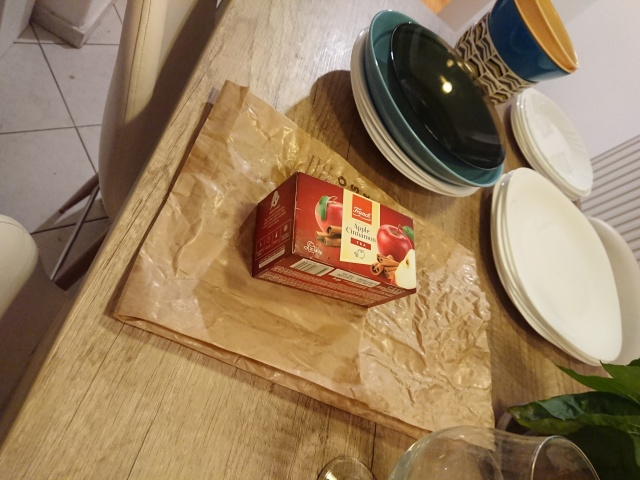Franck Apple Cinnamon Tea 60g: (247, 169, 419, 311)
